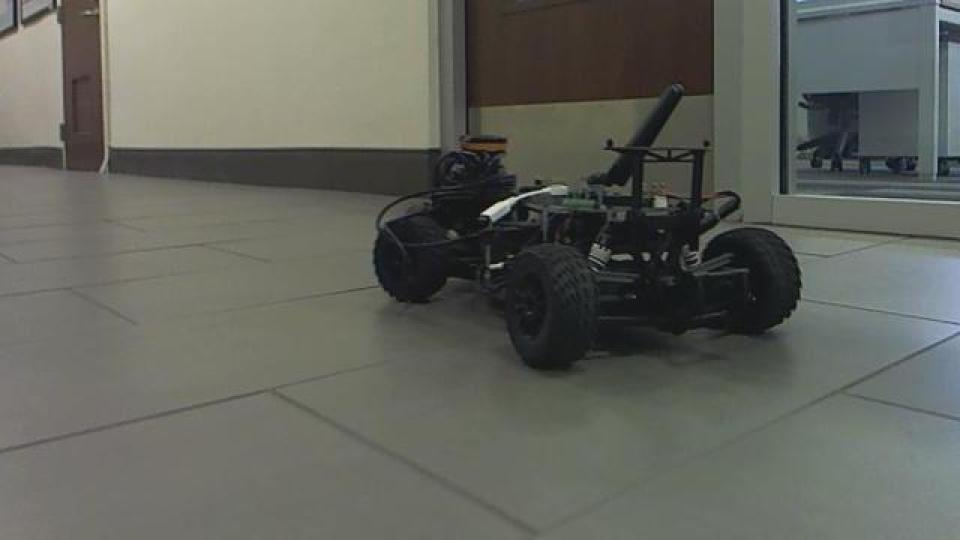car: (369, 81, 804, 373)
